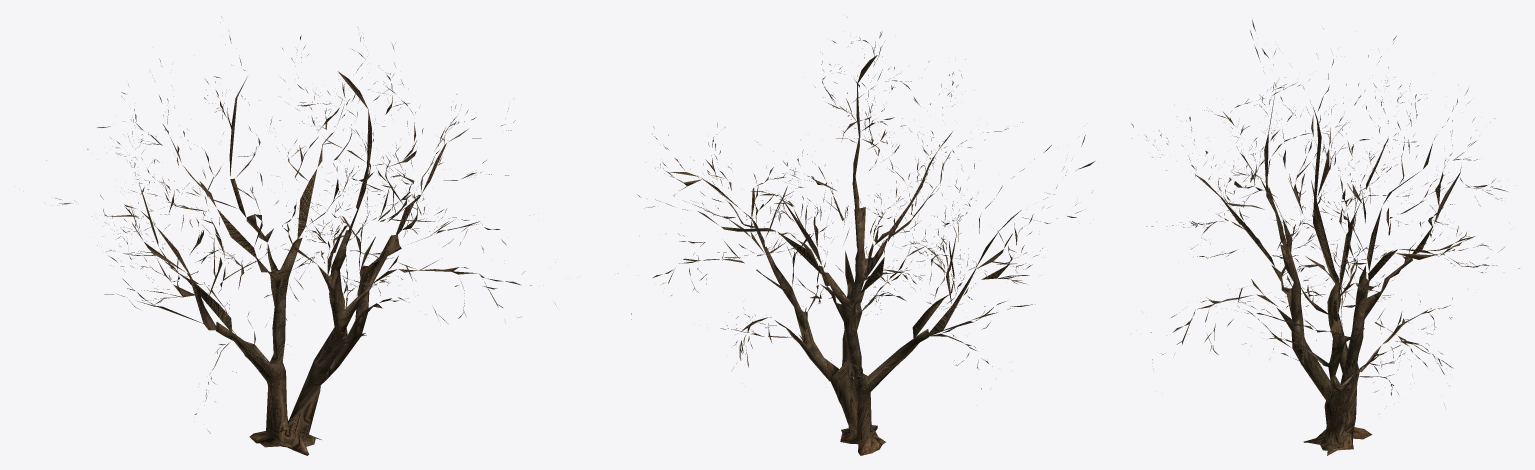
The model's file is jacaranda_tree_wood.glb.
The picture shows the model from 3 angles, left to right: view 1: azimuth 30°, elevation 25°; view 2: azimuth 150°, elevation 25°; view 3: azimuth 270°, elevation 25°; orthographic projection. The views are drawn at different scales.
Parts seen in each view (by area): view 1: jacaranda_tree_LOD0; view 2: jacaranda_tree_LOD0; view 3: jacaranda_tree_LOD0.
Boxes of the visible parts, box(x1,y1,x2,y2) form: jacaranda_tree_LOD0: box(46, 16, 555, 455); jacaranda_tree_LOD0: box(631, 17, 1094, 455); jacaranda_tree_LOD0: box(1131, 20, 1519, 455).
Size of the model in its own units: 23.41 by 19.13 by 17.26.
Materials: 2 (2 with a texture image).
